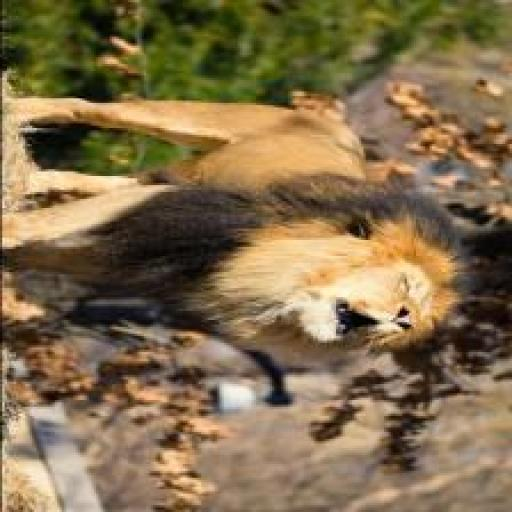lion: (2, 82, 480, 370)
